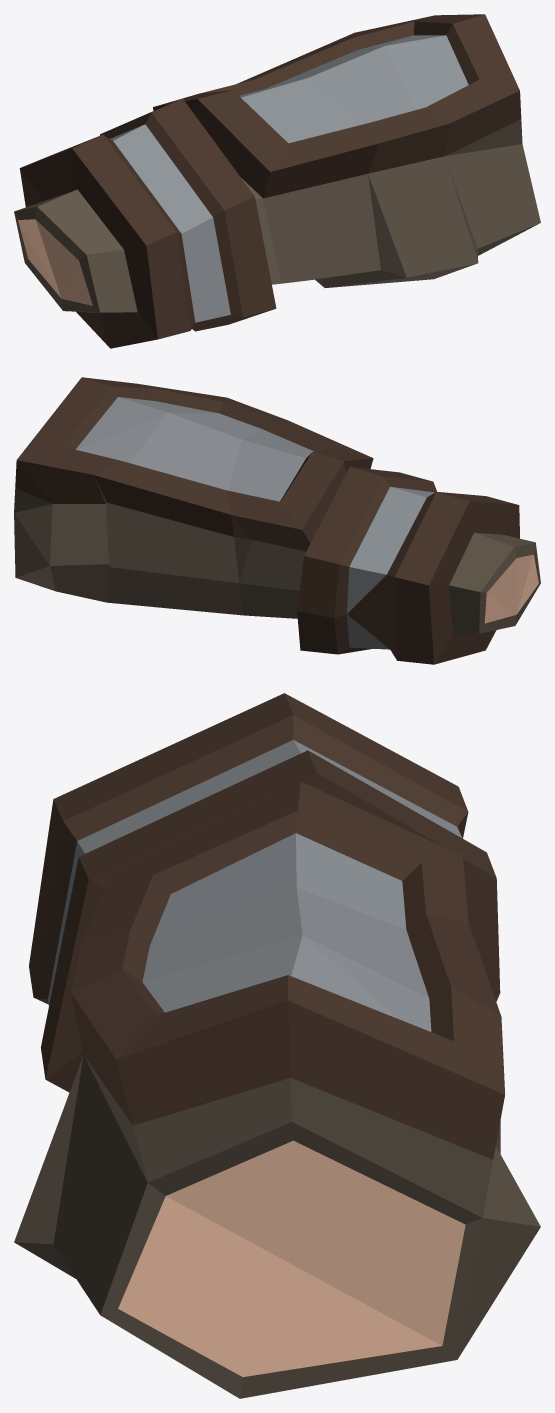
The model's file is Chr_ArmLowerRight_Male_10_Static.fbx.
3 renders of one model, top to bottom at view 1: azimuth 30°, elevation 25°; view 2: azimuth 150°, elevation 25°; view 3: azimuth 270°, elevation 25°, orthographic. The views are drawn at different scales.
Parts seen in each view (by area): view 1: Chr_ArmLowerRight_Male_10_Static; view 2: Chr_ArmLowerRight_Male_10_Static; view 3: Chr_ArmLowerRight_Male_10_Static.
Part boxes in pixels (x1,y1,x2,y2): Chr_ArmLowerRight_Male_10_Static: [14, 14, 540, 348]; Chr_ArmLowerRight_Male_10_Static: [14, 377, 540, 664]; Chr_ArmLowerRight_Male_10_Static: [14, 693, 540, 1398].
Size of the model in its own units: 0.2903 by 0.136 by 0.1517.
